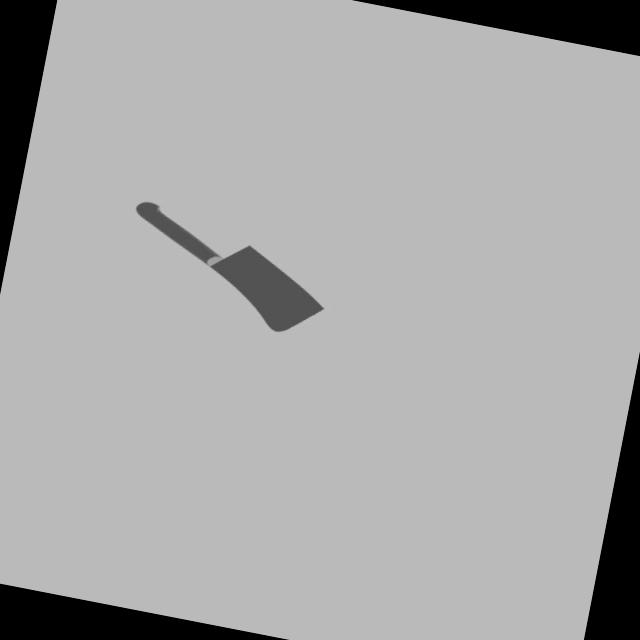knife: (128, 200, 230, 268)
